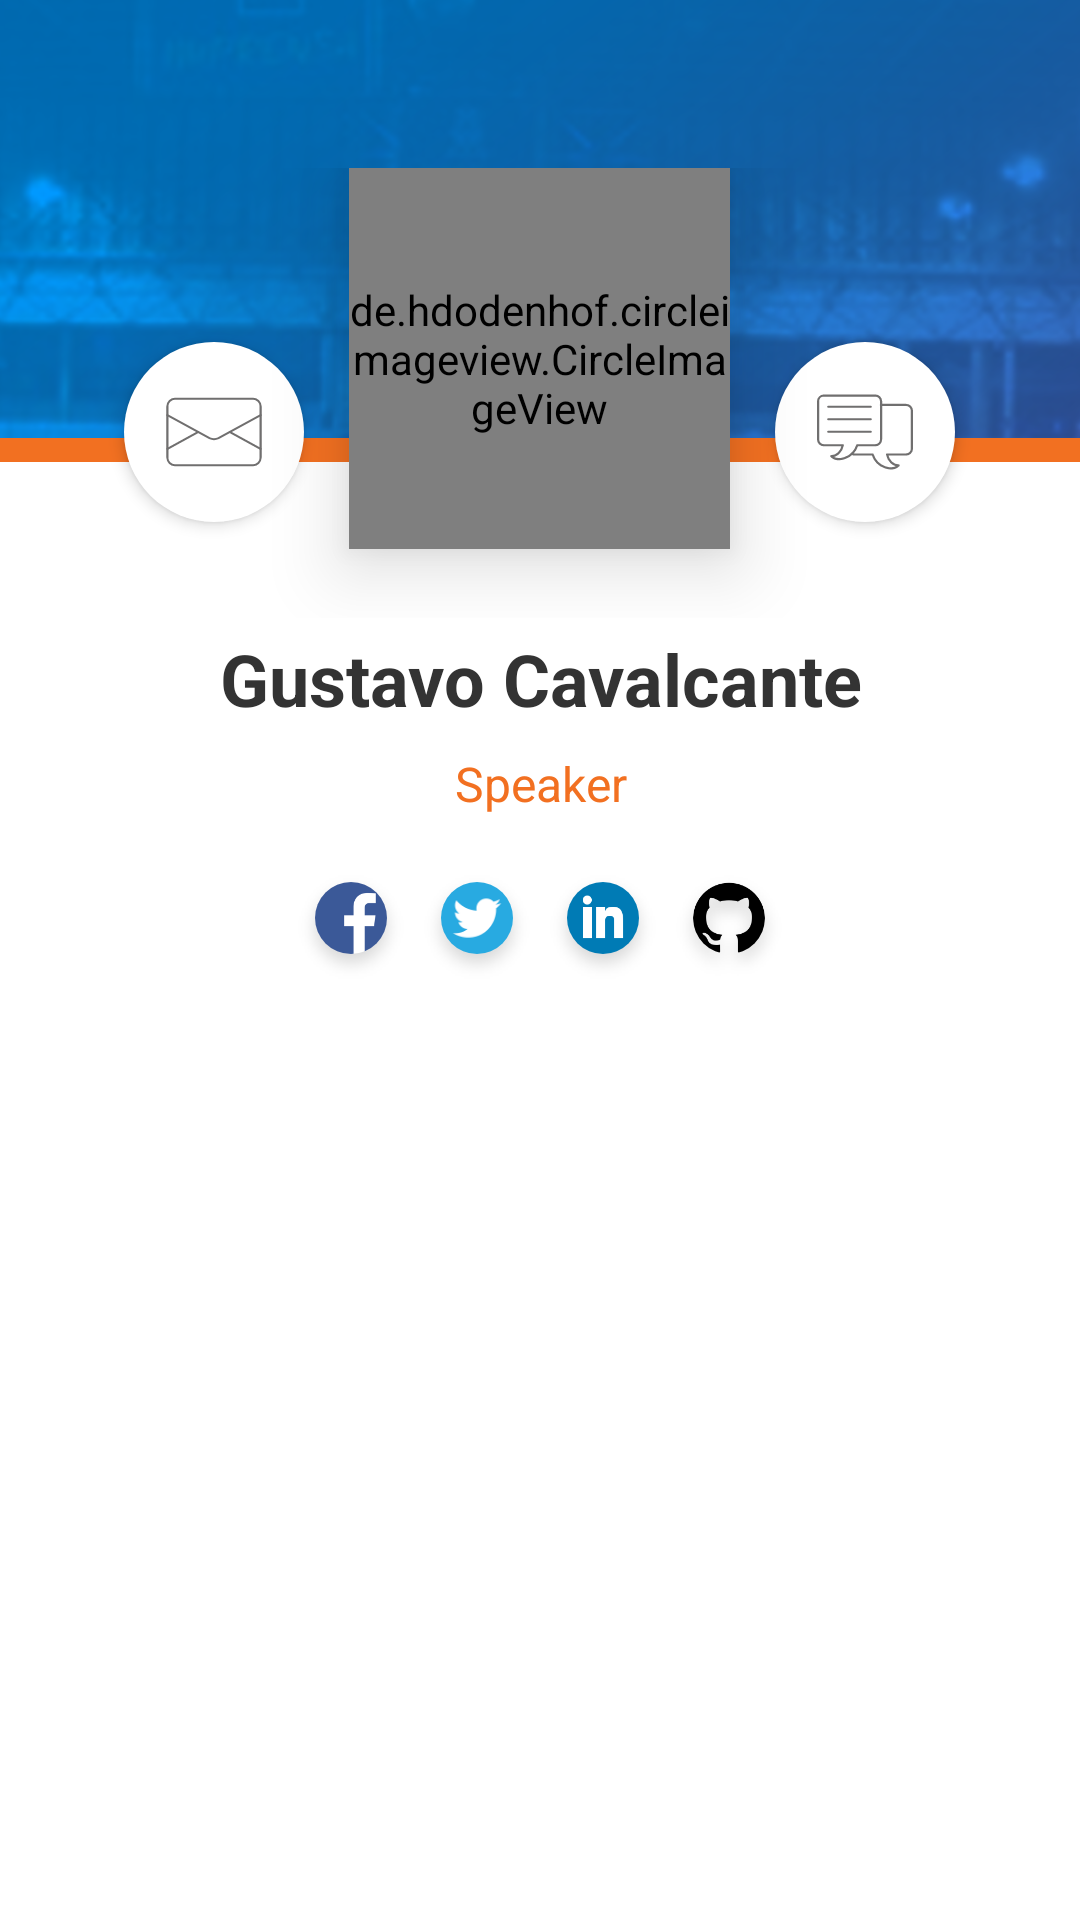

Icons on this 1080w x 1920h Android screen, each with its box as (x1, y1, x2, y2):
messages: (817, 394, 913, 470)
